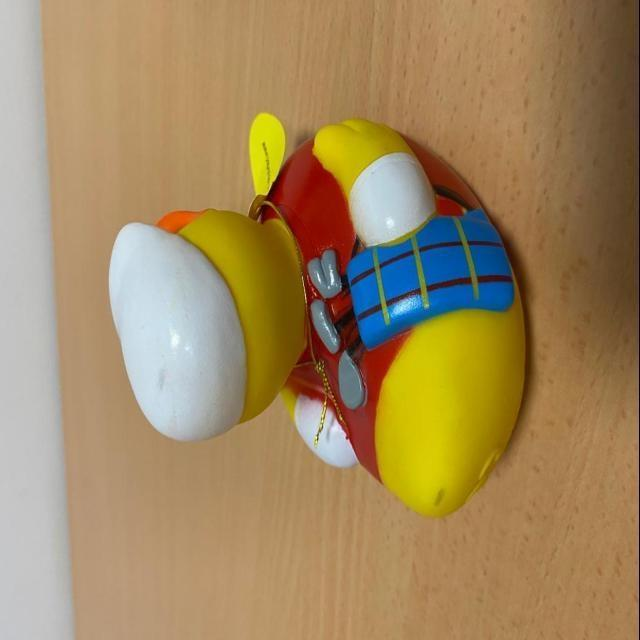rubber-duck: (108, 112, 523, 514)
